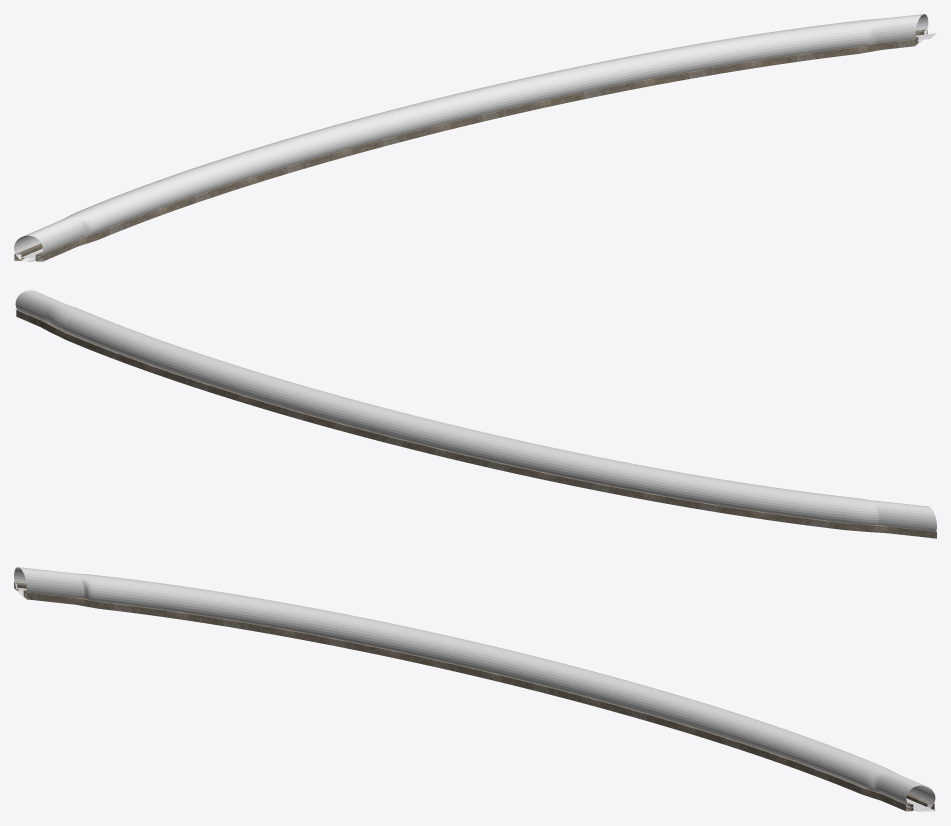
File: sewer.fbx
3 renders of one model, top to bottom at view 1: azimuth 30°, elevation 25°; view 2: azimuth 150°, elevation 25°; view 3: azimuth 330°, elevation 25°, orthographic.
Parts seen in each view (by area): view 1: Sienos, Cementas; view 2: Sienos, Cementas; view 3: Sienos, Cementas.
Boxes of the visible parts, x1=… form: Sienos: x1=14, y1=14, x2=928, y2=261; Cementas: x1=14, y1=29, x2=927, y2=261; Sienos: x1=15, y1=290, x2=936, y2=531; Cementas: x1=16, y1=310, x2=936, y2=538; Sienos: x1=14, y1=567, x2=935, y2=811; Cementas: x1=14, y1=581, x2=934, y2=811.
Bounding box in the file's own units: 18329 × 500 × 1652.
